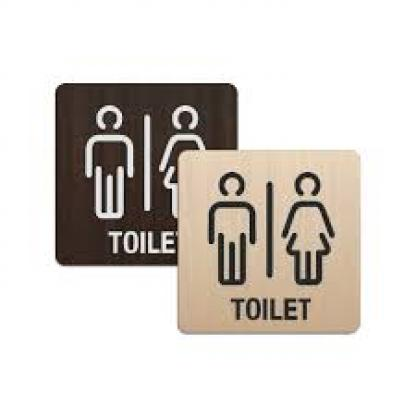toilet: (211, 172, 337, 286)
